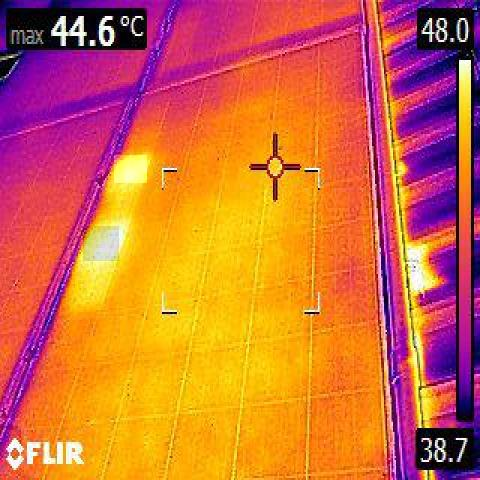fault: (83, 226, 119, 261), (114, 155, 147, 183)
